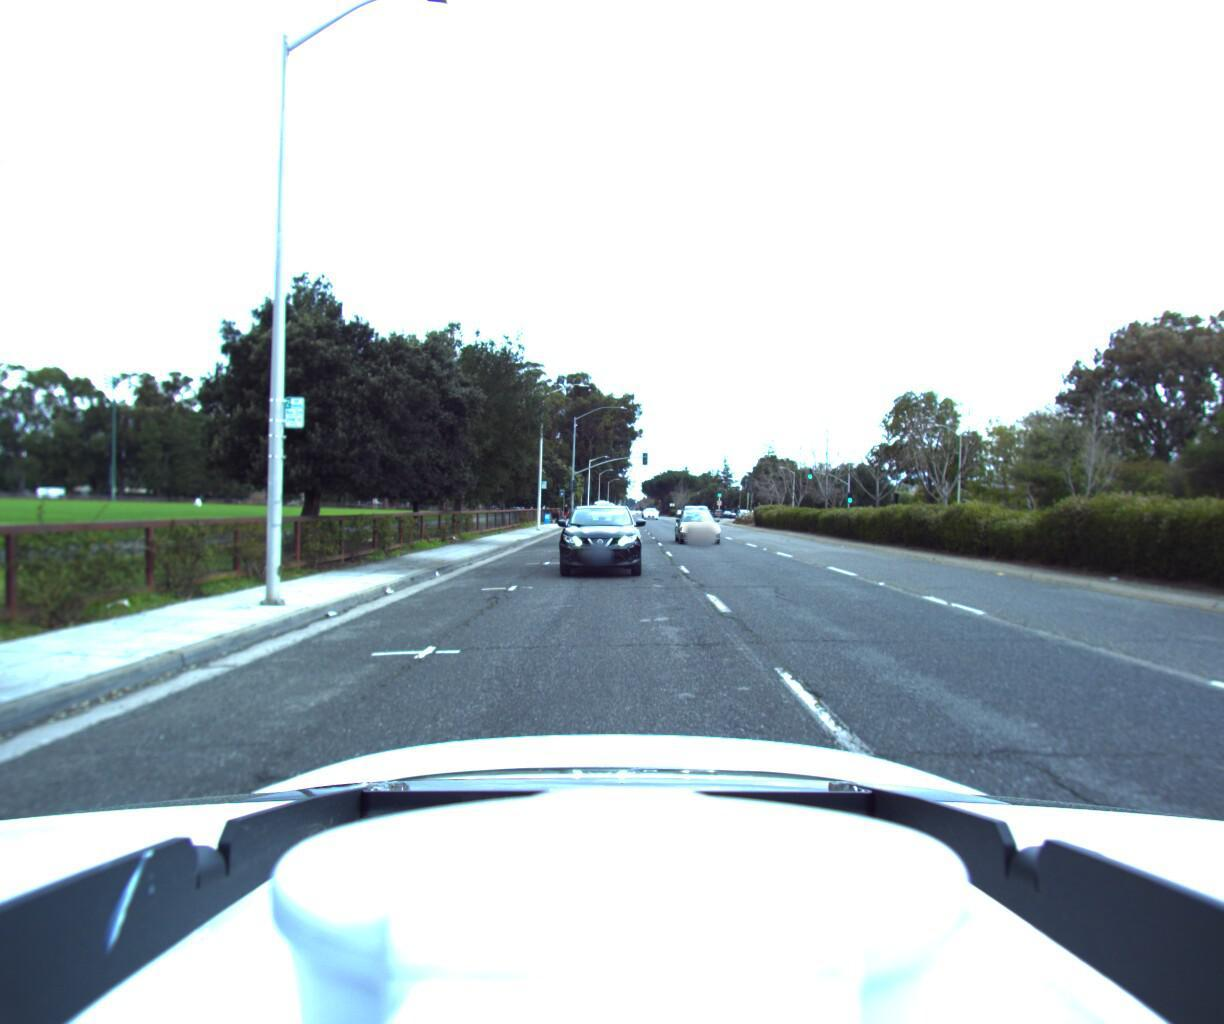bicycle: (559, 503, 576, 522)
car: (550, 502, 644, 580), (671, 510, 728, 548)
